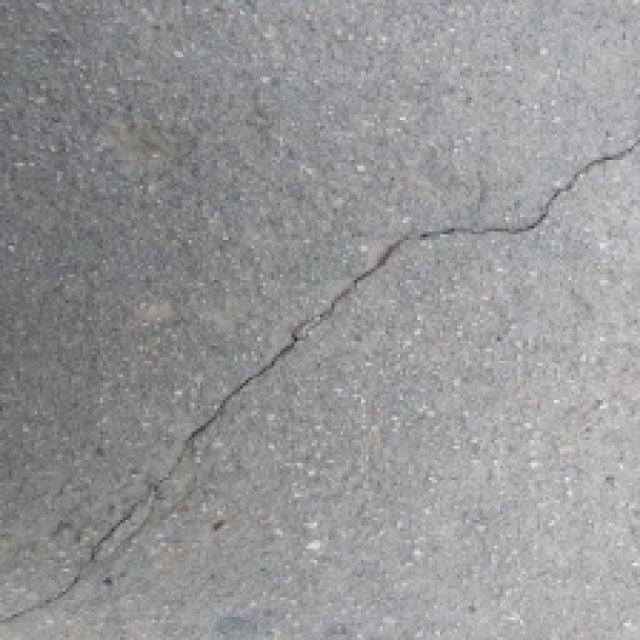SurfaceCrack: (8, 120, 632, 630)
